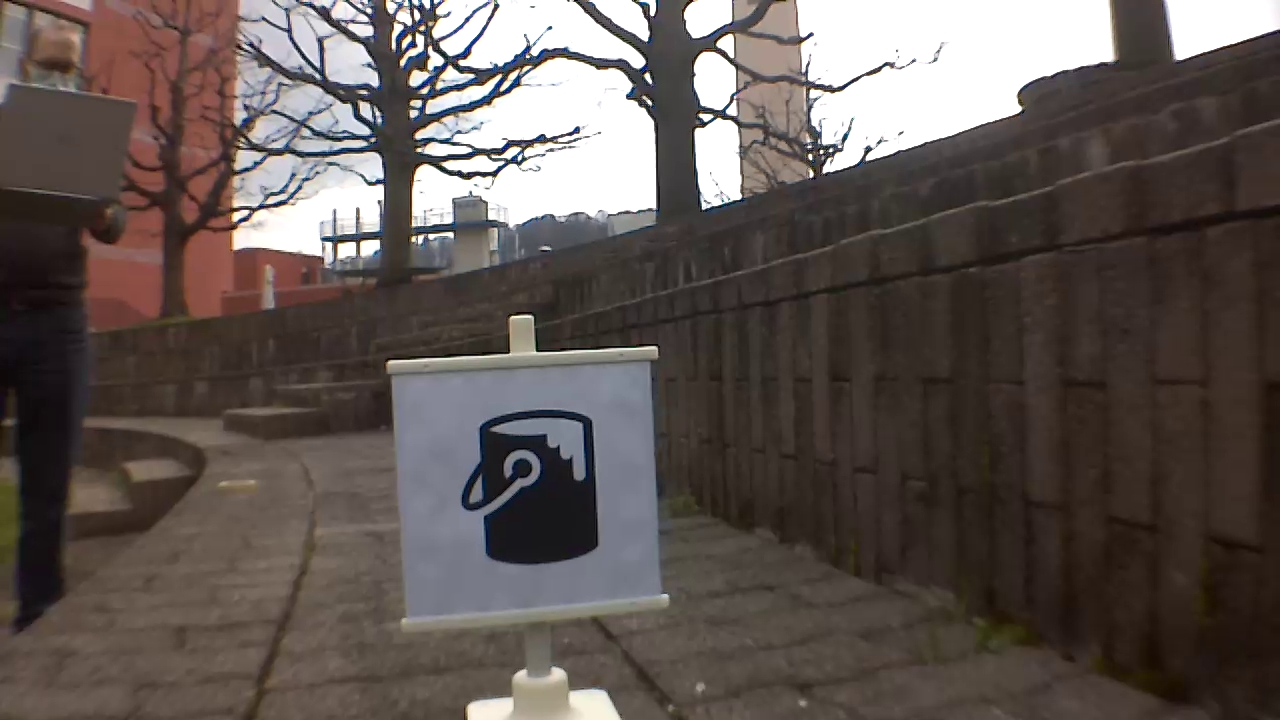bucket: (454, 405, 606, 570)
